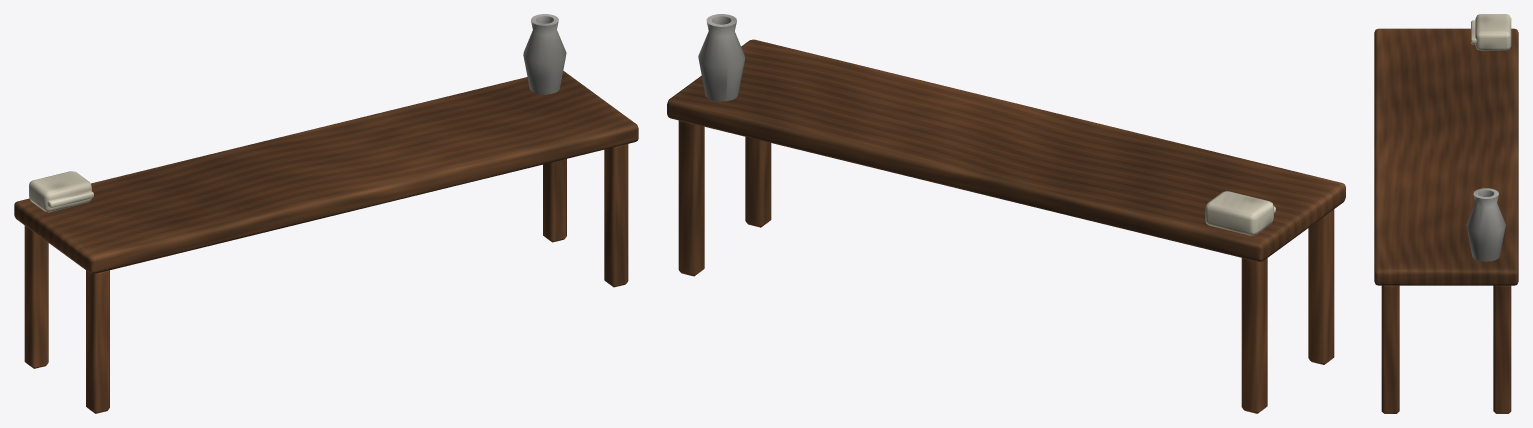
File: Furn_Sword_WaterBench.fbx
3 views of the same model, side by side, from view 1: azimuth 30°, elevation 25°; view 2: azimuth 150°, elevation 25°; view 3: azimuth 270°, elevation 25° (orthographic). The views are drawn at different scales.
Parts seen in each view (by area): view 1: Furn_Sword_WaterBench; view 2: Furn_Sword_WaterBench; view 3: Furn_Sword_WaterBench.
Boxes of the visible parts, x1=… form: Furn_Sword_WaterBench: x1=14, y1=14, x2=638, y2=413; Furn_Sword_WaterBench: x1=667, y1=14, x2=1345, y2=413; Furn_Sword_WaterBench: x1=1374, y1=14, x2=1518, y2=413.
Size of the model in its own units: 1.6 by 0.64 by 0.4.
3 materials, 3 textured.
